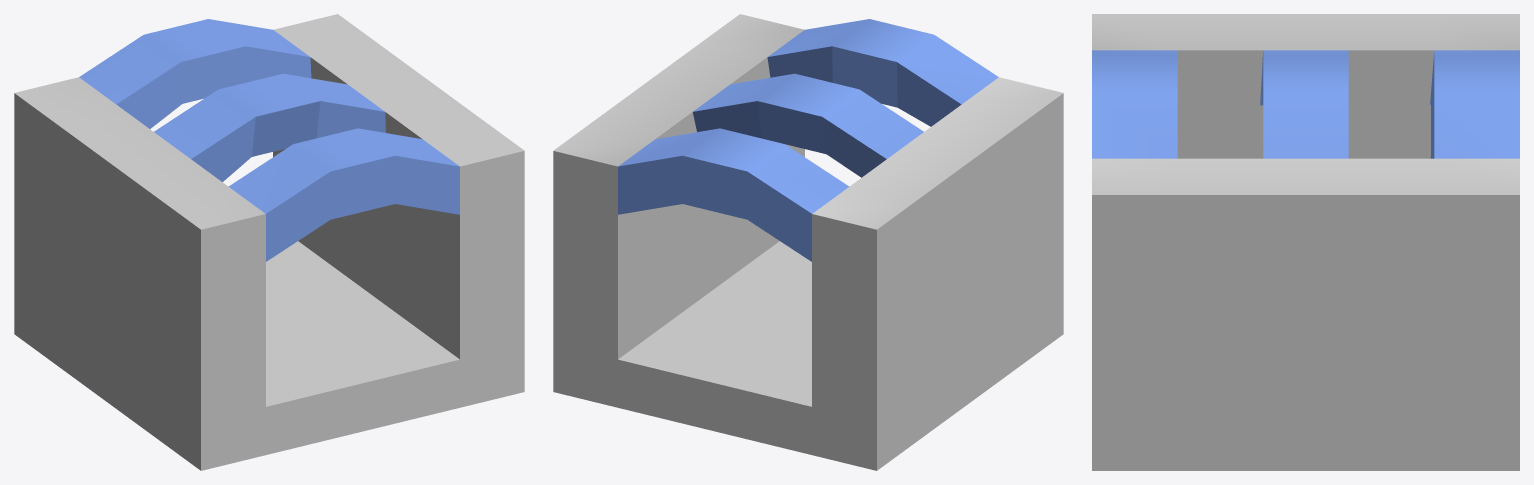
File: Santorini_hallway 1.fbx
3 views of the same model, side by side, from view 1: azimuth 30°, elevation 25°; view 2: azimuth 150°, elevation 25°; view 3: azimuth 270°, elevation 25° (orthographic). The views are drawn at different scales.
Visible parts, largest first — view 1: pCube3; view 2: pCube3; view 3: pCube3.
Boxes of the visible parts, x1,y1,x2,y2 form: pCube3: (14,14,524,470); pCube3: (553,14,1063,470); pCube3: (1092,14,1519,470).
Bounding box in the file's own units: 7.91 × 6.25 × 7.91.
